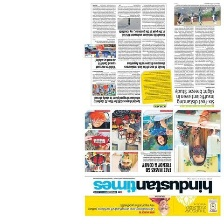news_paper: (81, 0, 222, 220)
